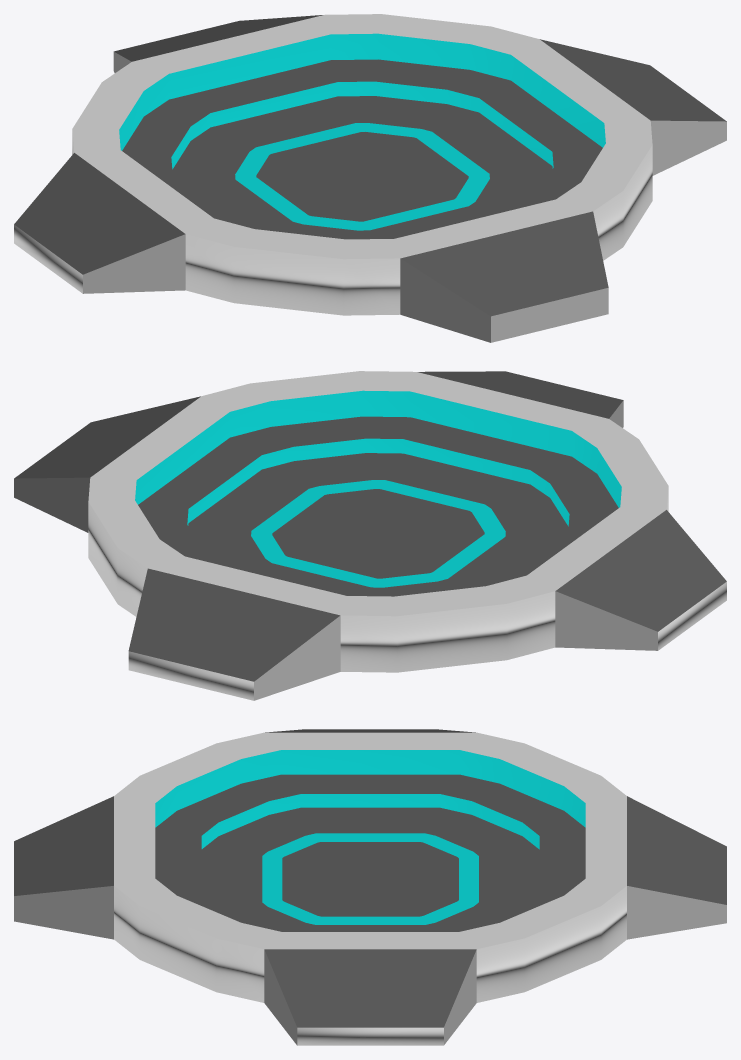
Rendered from Trigger Pad Futuristic.fbx.
The picture shows the model from 3 angles, top to bottom: view 1: azimuth 30°, elevation 25°; view 2: azimuth 150°, elevation 25°; view 3: azimuth 270°, elevation 25°; orthographic projection. The views are drawn at different scales.
Parts seen in each view (by area): view 1: Trigger Futuristic; view 2: Trigger Futuristic; view 3: Trigger Futuristic.
Boxes of the visible parts, x1,y1,x2,y2 form: Trigger Futuristic: (14, 14, 726, 342); Trigger Futuristic: (14, 371, 726, 700); Trigger Futuristic: (14, 729, 726, 1045).
Bounding box in the file's own units: 254 × 21.41 × 257.
